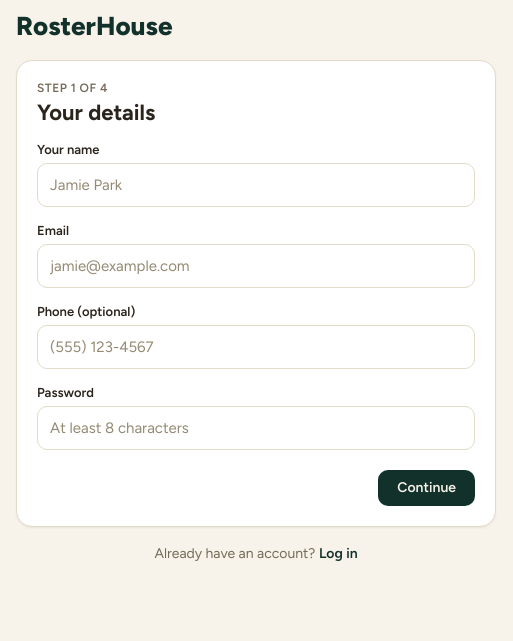
Test: SignupWizard › blocks continue until the details are valid
The width and height of the screenshot is (513, 641).
What coordinates should you click on to do the following:
click the button "Continue"
I would click on:
 (427, 488)
Its box is [378, 470, 475, 506].
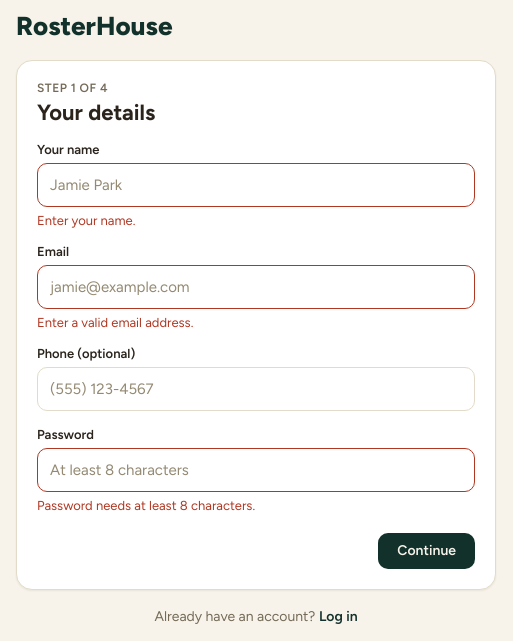
Expected: the text "Step 1 of 4" is shown, [37, 81, 108, 95]
Expected: the text "Enter your name." is shown, [37, 213, 135, 228]
